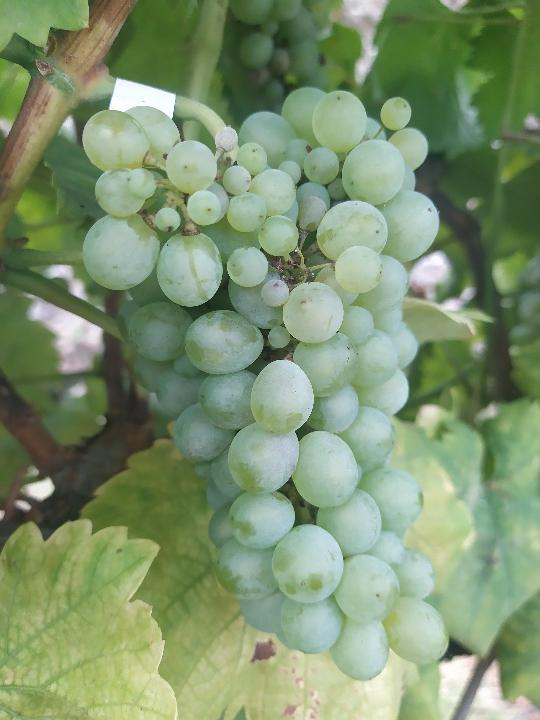grape: (78, 85, 454, 685)
